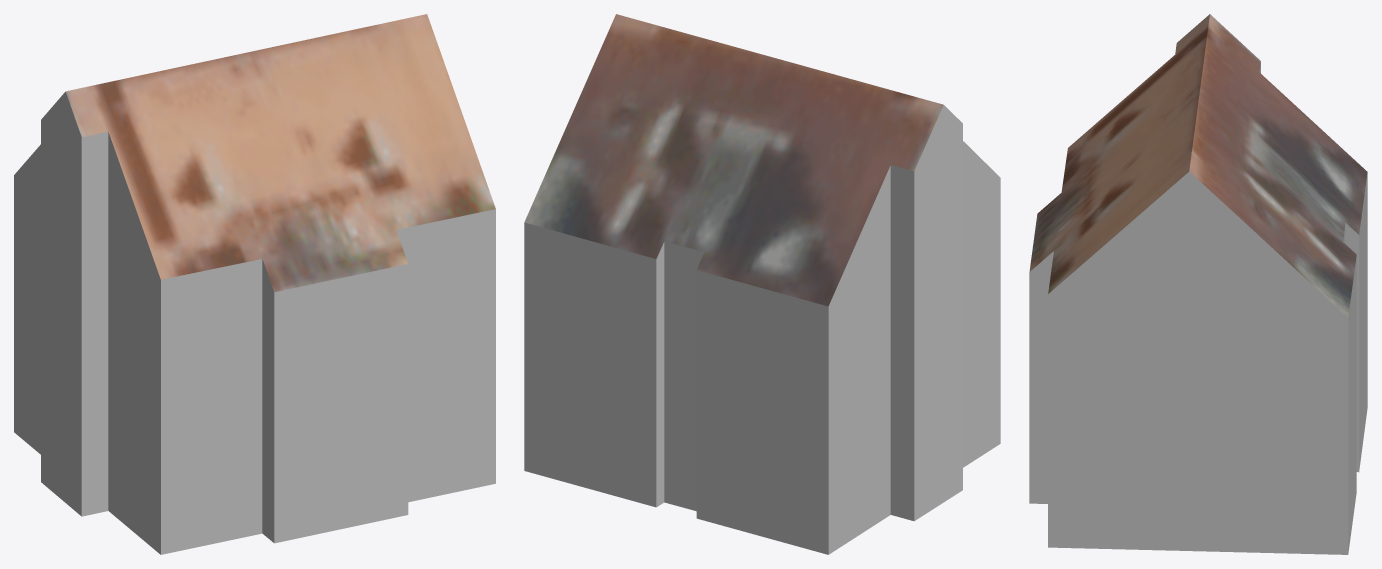
File: DEBW_0010007TvkA.gltf
The picture shows the model from 3 angles, left to right: view 1: azimuth 30°, elevation 25°; view 2: azimuth 150°, elevation 25°; view 3: azimuth 270°, elevation 25°; orthographic projection. The views are drawn at different scales.
Parts seen in each view (by area): view 1: Z_UP; view 2: Z_UP; view 3: Z_UP.
Boxes of the visible parts, x1,y1,x2,y2 form: Z_UP: [14, 14, 495, 554]; Z_UP: [524, 14, 1000, 554]; Z_UP: [1029, 14, 1367, 554].
Bounding box in the file's own units: 17.98 × 19.6 × 15.82.
2 materials, 1 textured.
